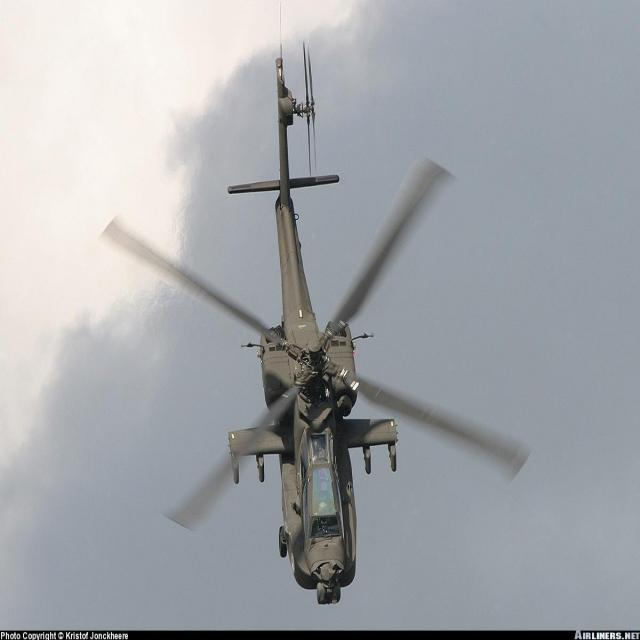MIL_HELO: (96, 36, 541, 597)
